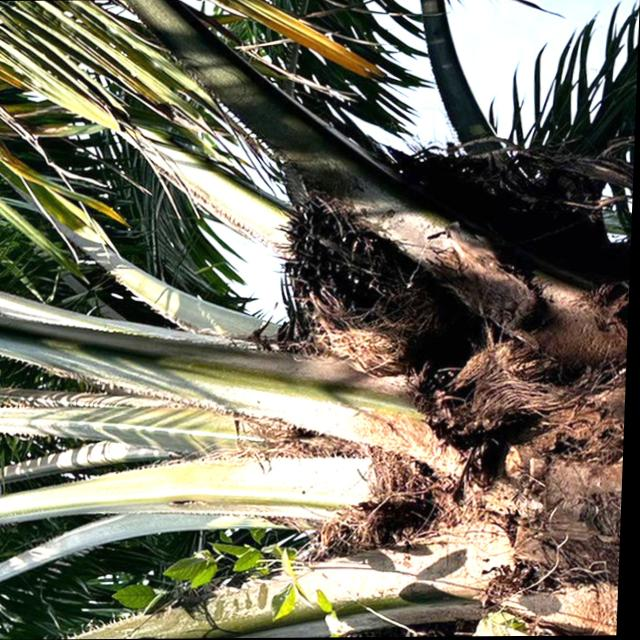almost: (270, 193, 447, 389)
